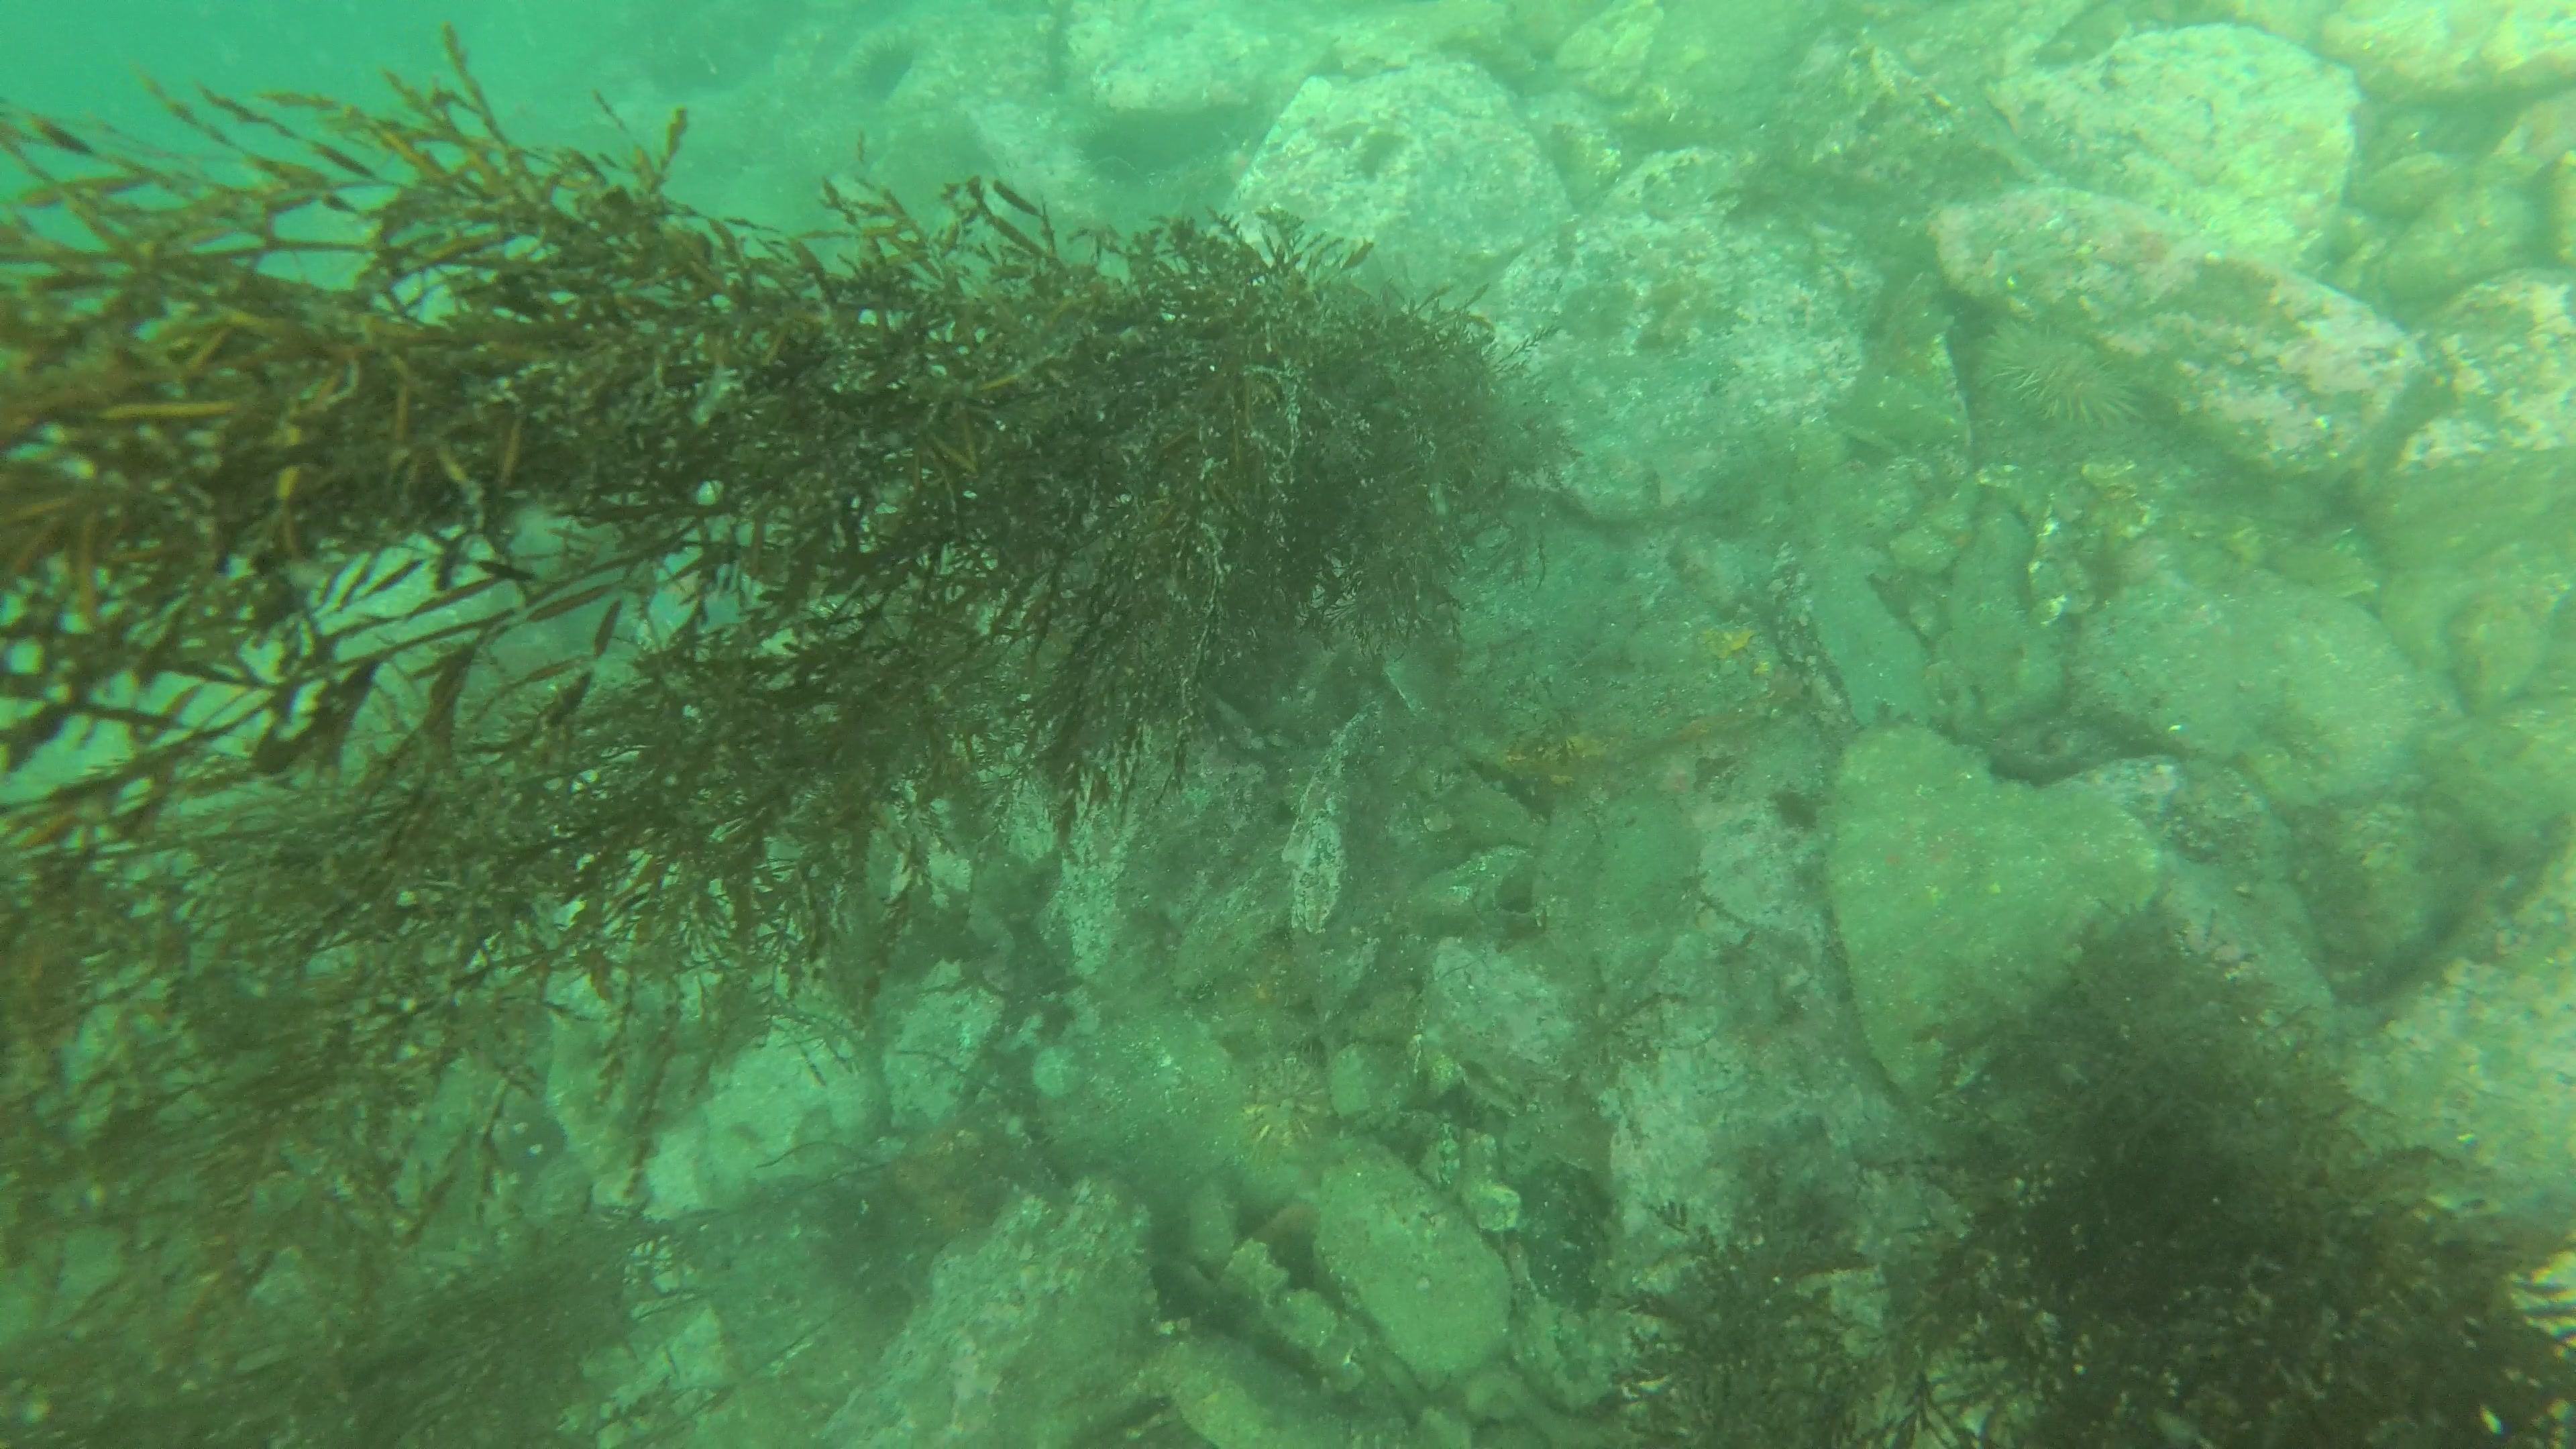echinus: (1990, 301, 2144, 441), (1242, 1047, 1341, 1162), (858, 34, 920, 94)
